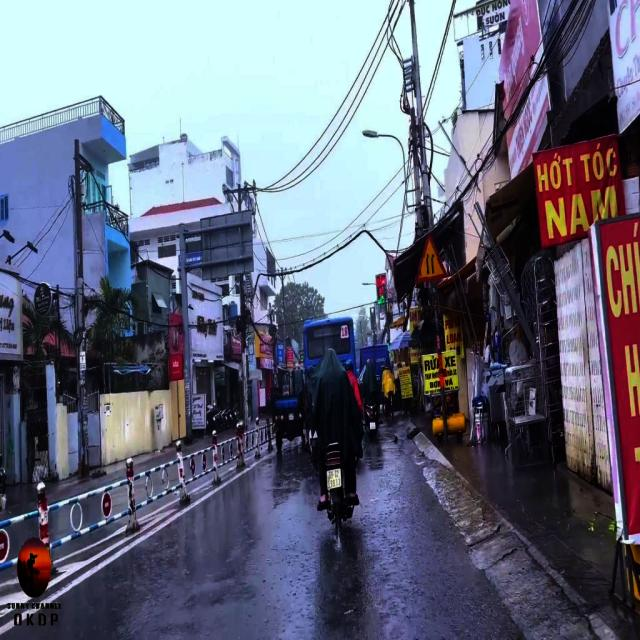khac: (416, 228, 452, 288)
